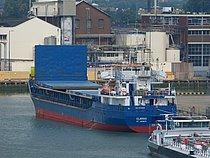Ship: (27, 45, 183, 135)
